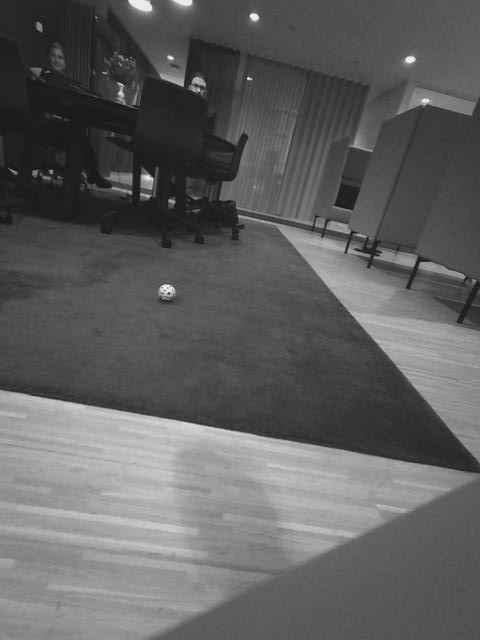dogtoy: (152, 278, 182, 306)
